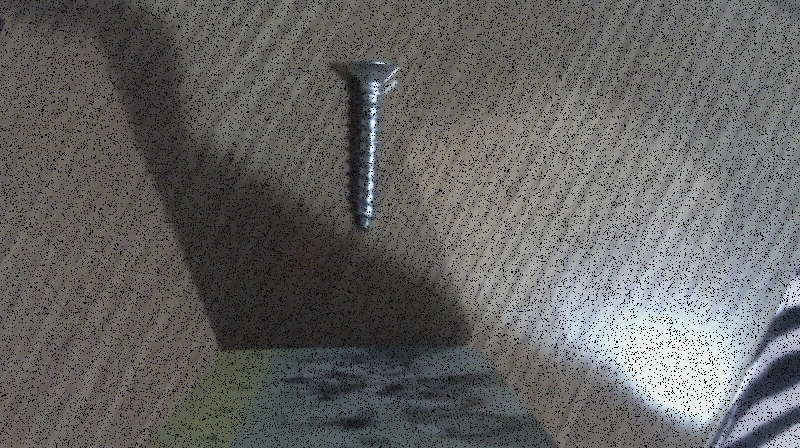S001: (332, 54, 405, 241)
